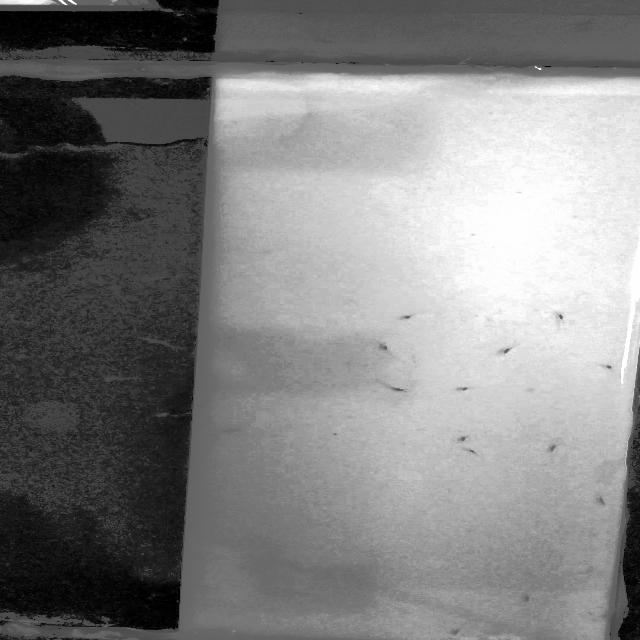shrimp: (368, 380, 426, 400), (484, 339, 524, 360), (583, 360, 622, 378), (539, 310, 580, 327), (386, 310, 426, 326), (374, 336, 402, 358), (443, 382, 481, 398), (516, 590, 543, 610), (440, 623, 471, 640), (543, 440, 568, 459), (461, 448, 496, 460), (447, 430, 473, 442)
